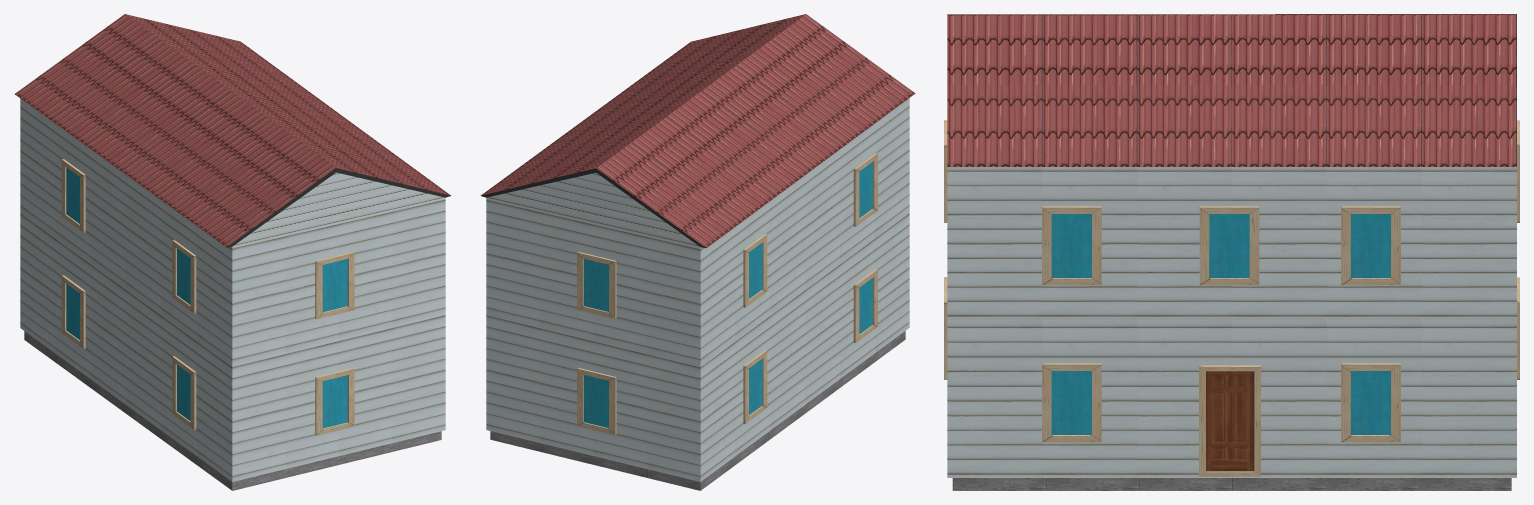
Rendered from Hus3.glb.
3 renders of one model, left to right at view 1: azimuth 30°, elevation 25°; view 2: azimuth 150°, elevation 25°; view 3: azimuth 270°, elevation 25°, orthographic. The views are drawn at different scales.
Visible parts, largest first — view 1: Hus3; view 2: Hus3; view 3: Hus3.
Part boxes in pixels (box(x1,y1,x2,y2)): Hus3: box(14, 14, 450, 490); Hus3: box(480, 14, 915, 490); Hus3: box(944, 14, 1519, 490).
Bounding box in the file's own units: 7.17 × 9.07 × 11.69.
Materials: 1 (1 with a texture image).
